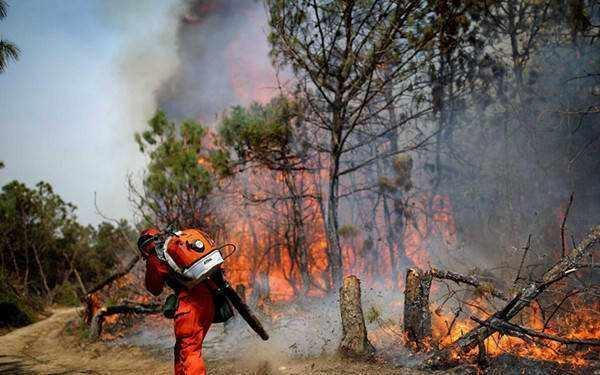fire: (190, 52, 462, 299), (387, 248, 585, 369), (81, 267, 168, 329)
